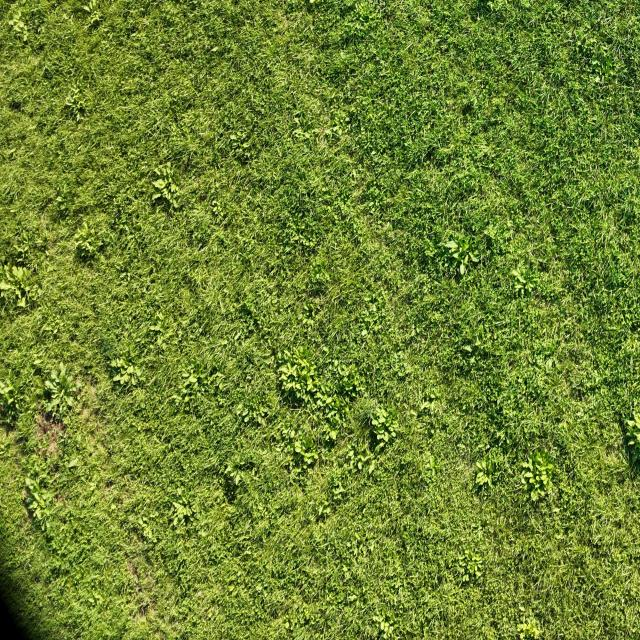rumex: (300, 148, 389, 288), (220, 430, 299, 532), (323, 3, 398, 89), (130, 474, 200, 553), (571, 15, 625, 86), (217, 539, 269, 610), (279, 207, 331, 272), (458, 314, 506, 378), (346, 278, 390, 347), (326, 357, 364, 420), (23, 474, 59, 532), (111, 241, 151, 289), (206, 180, 244, 230), (3, 222, 39, 272), (222, 448, 262, 492), (108, 349, 146, 394), (440, 234, 478, 278), (235, 386, 268, 430), (224, 124, 258, 166), (368, 601, 406, 638), (146, 310, 179, 349), (369, 411, 400, 450), (508, 260, 540, 297), (0, 372, 23, 423), (307, 252, 334, 294), (352, 1, 383, 32), (278, 350, 308, 382), (473, 456, 499, 492), (150, 163, 180, 194), (414, 385, 443, 416), (7, 8, 31, 44), (418, 451, 441, 488), (34, 426, 57, 462), (344, 440, 369, 473), (64, 82, 88, 116), (330, 470, 352, 505), (54, 179, 74, 217), (318, 390, 342, 417), (514, 618, 544, 639), (83, 0, 105, 27), (297, 443, 320, 467), (52, 369, 74, 394), (237, 300, 259, 324), (74, 242, 97, 263), (451, 235, 474, 256), (372, 405, 392, 428), (464, 551, 483, 575), (111, 356, 136, 374), (371, 613, 390, 633), (222, 461, 240, 482), (625, 421, 639, 446), (336, 362, 353, 380), (576, 33, 592, 51), (460, 100, 476, 118), (0, 378, 15, 397), (535, 259, 551, 276), (371, 438, 385, 456), (142, 524, 155, 542), (295, 129, 314, 141), (522, 466, 536, 482), (114, 372, 131, 385), (172, 500, 186, 515), (359, 6, 372, 22), (59, 364, 68, 386), (530, 488, 544, 502), (475, 472, 489, 486), (45, 400, 58, 414), (24, 476, 36, 491), (444, 240, 460, 251), (184, 374, 198, 386), (42, 387, 54, 401), (5, 146, 19, 158), (525, 458, 537, 472), (67, 456, 79, 469), (44, 379, 57, 391), (294, 440, 305, 454), (233, 328, 243, 343), (510, 268, 522, 280), (474, 460, 486, 472), (462, 344, 476, 354), (236, 403, 246, 417), (32, 491, 42, 505), (64, 97, 77, 107), (17, 296, 27, 309), (328, 428, 338, 441), (33, 508, 43, 521), (546, 356, 554, 372), (127, 344, 136, 358), (20, 230, 29, 244), (540, 472, 549, 486), (319, 344, 330, 355), (525, 477, 536, 488), (82, 4, 94, 14), (73, 380, 83, 392), (93, 592, 103, 604), (217, 380, 226, 393), (7, 18, 20, 27), (51, 370, 60, 383), (32, 358, 44, 367), (61, 182, 70, 194), (182, 371, 194, 380), (151, 192, 163, 201), (66, 394, 74, 407), (332, 360, 341, 370), (243, 414, 252, 424), (209, 45, 220, 53), (55, 195, 64, 204), (87, 595, 95, 605), (228, 134, 238, 142), (197, 376, 204, 386), (462, 573, 469, 582), (198, 130, 208, 136)
